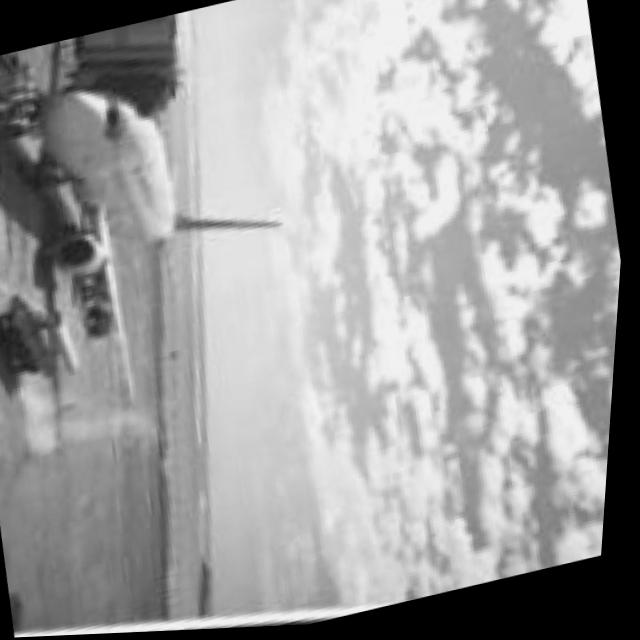aeroplane: (0, 9, 349, 476)
